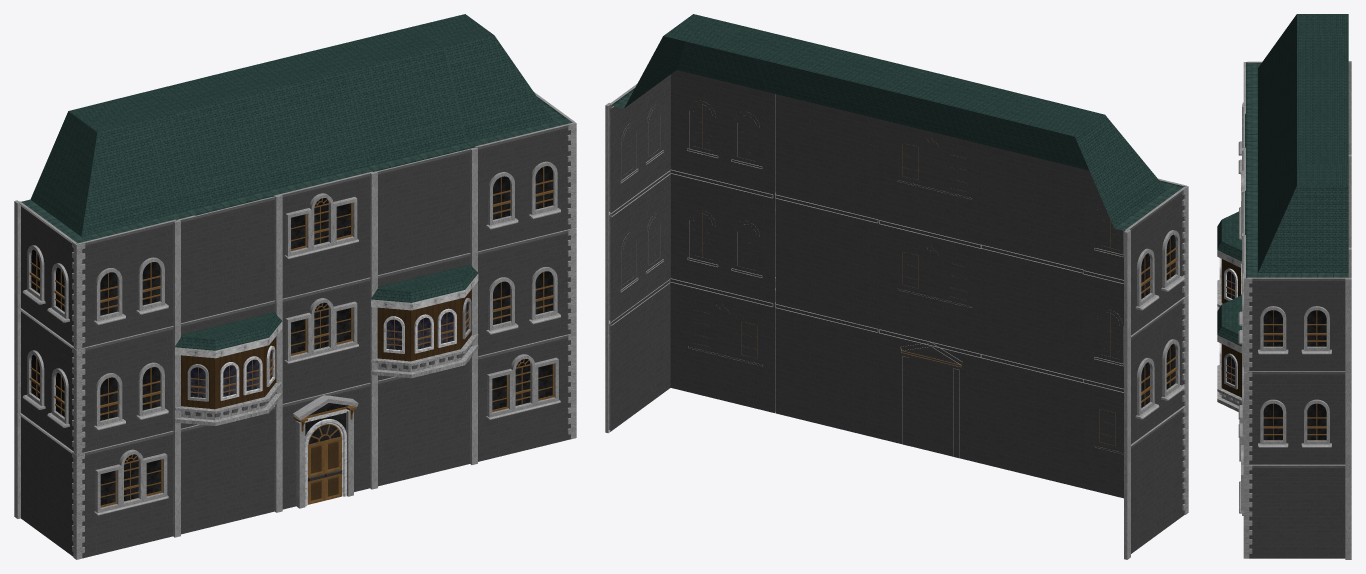
Rendered from Mansion.001_House.002a.fbx.
The picture shows the model from 3 angles, left to right: view 1: azimuth 30°, elevation 25°; view 2: azimuth 150°, elevation 25°; view 3: azimuth 270°, elevation 25°; orthographic projection. The views are drawn at different scales.
Parts seen in each view (by area): view 1: Mansion001_House_002; view 2: Mansion001_House_002; view 3: Mansion001_House_002.
Boxes of the visible parts, x1,y1,x2,y2 form: Mansion001_House_002: [14, 14, 576, 559]; Mansion001_House_002: [605, 14, 1188, 559]; Mansion001_House_002: [1217, 14, 1351, 559].
Size of the model in its own units: 2022 by 1495 by 520.
